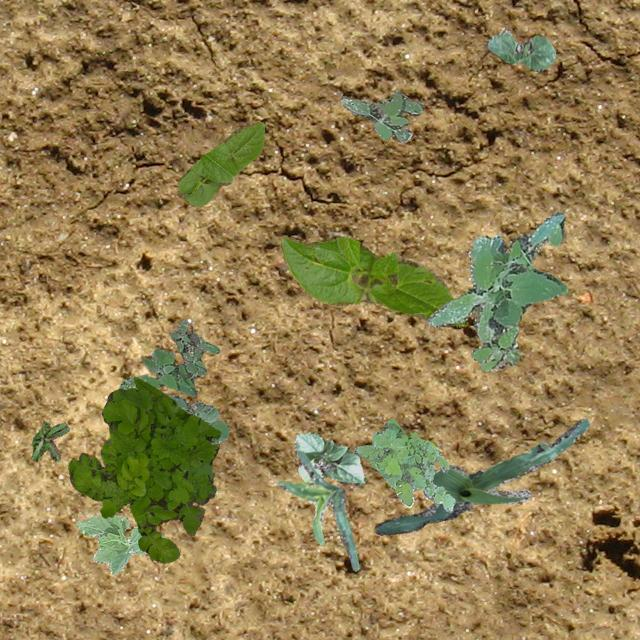crop: (374, 418, 588, 534), (280, 236, 466, 326), (278, 450, 358, 570), (175, 120, 264, 206), (74, 514, 146, 574), (294, 432, 364, 484), (486, 28, 556, 70)
weed: (68, 376, 220, 562), (426, 210, 566, 370), (354, 418, 454, 512), (119, 318, 218, 396), (340, 90, 422, 142), (166, 393, 228, 442), (31, 420, 68, 460)
